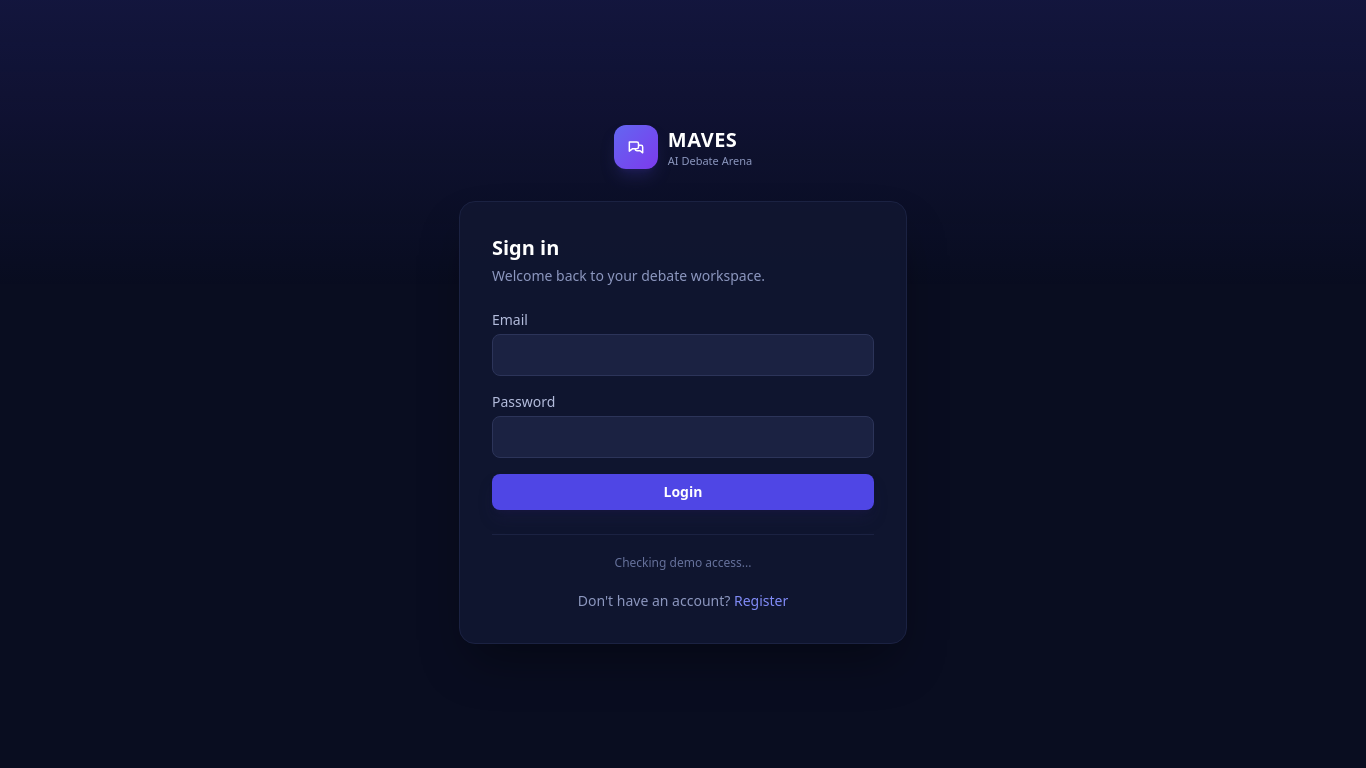
Test: authentication API integration › shows invalid credentials and permits another login attempt
The width and height of the screenshot is (1366, 768).
In the field labelled "Email": (683, 354) [492,334,874,376], type "qa@example.com"
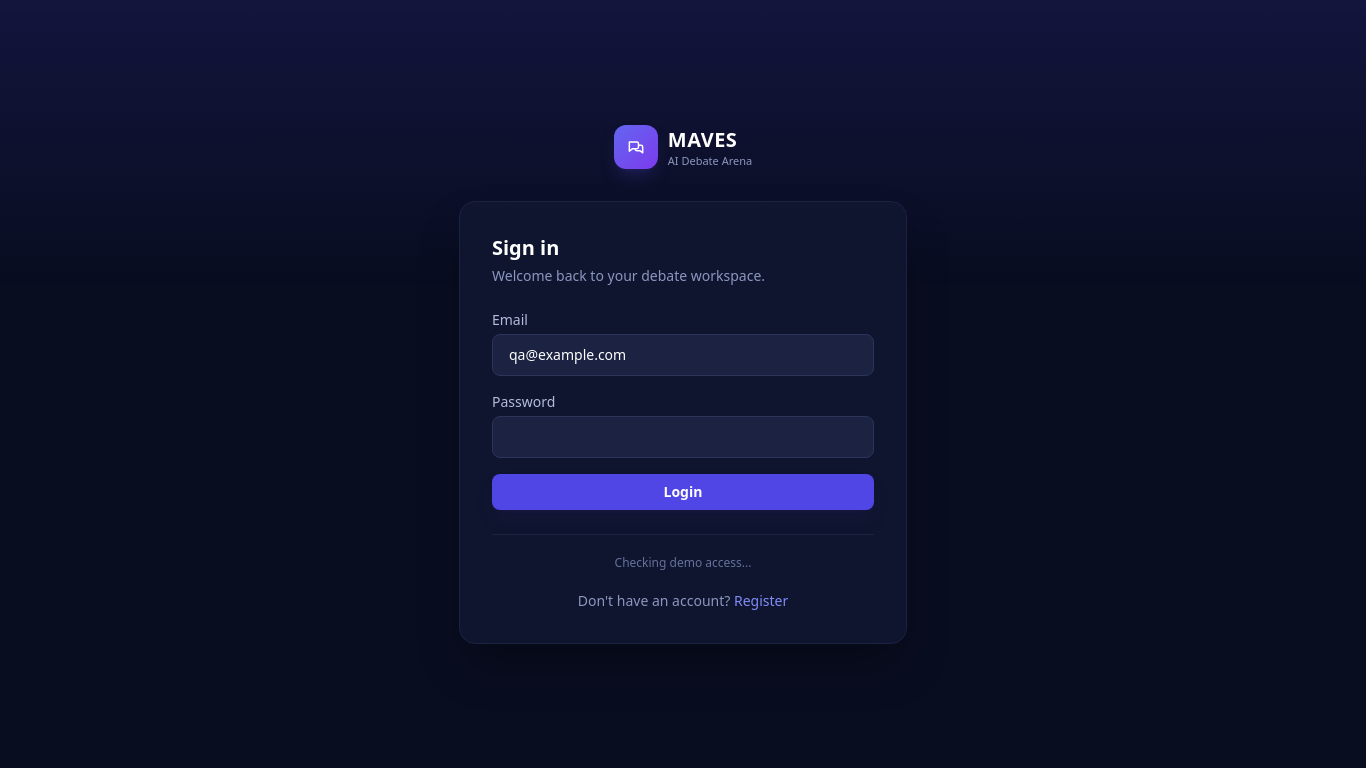
In the password field labelled "Password": (683, 436) [492,416,874,458], type "wrong-password"
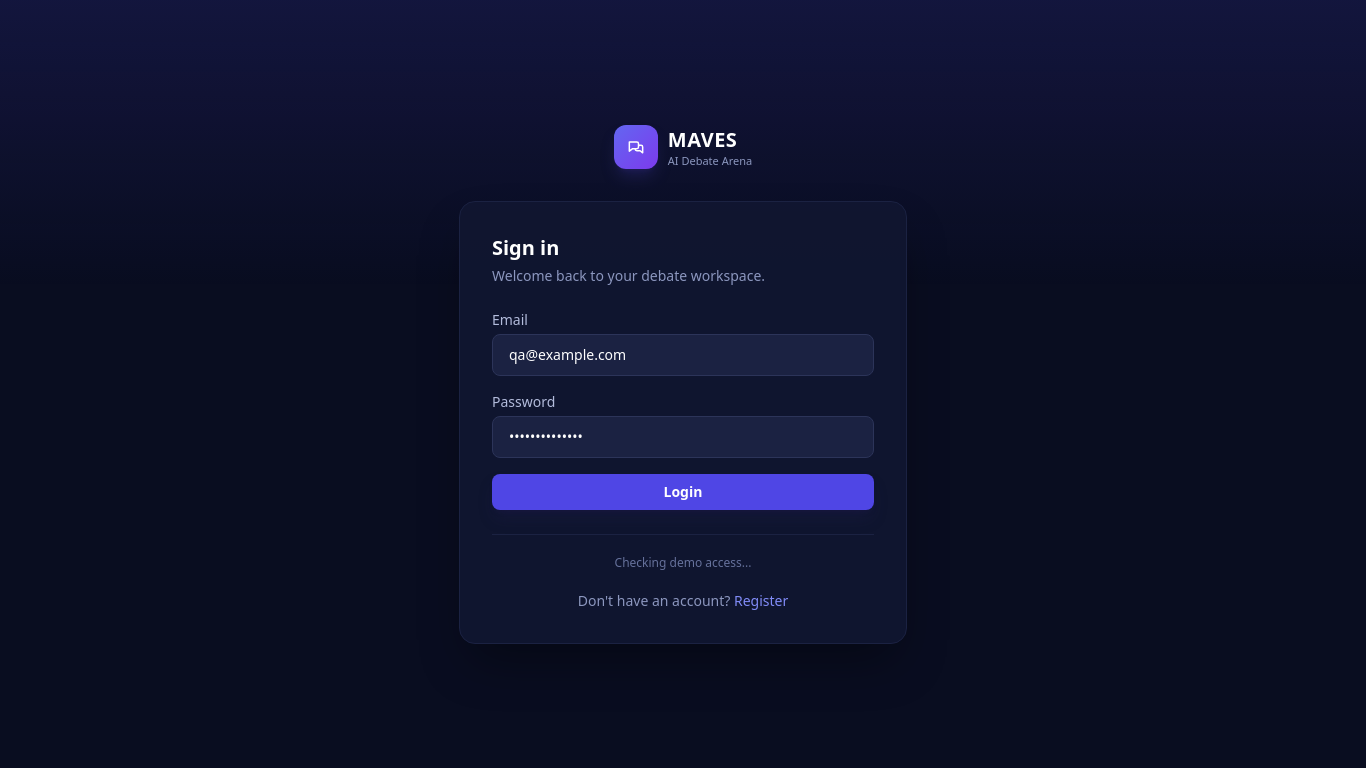
Click the button "Login": click(683, 492) [492,474,874,510]
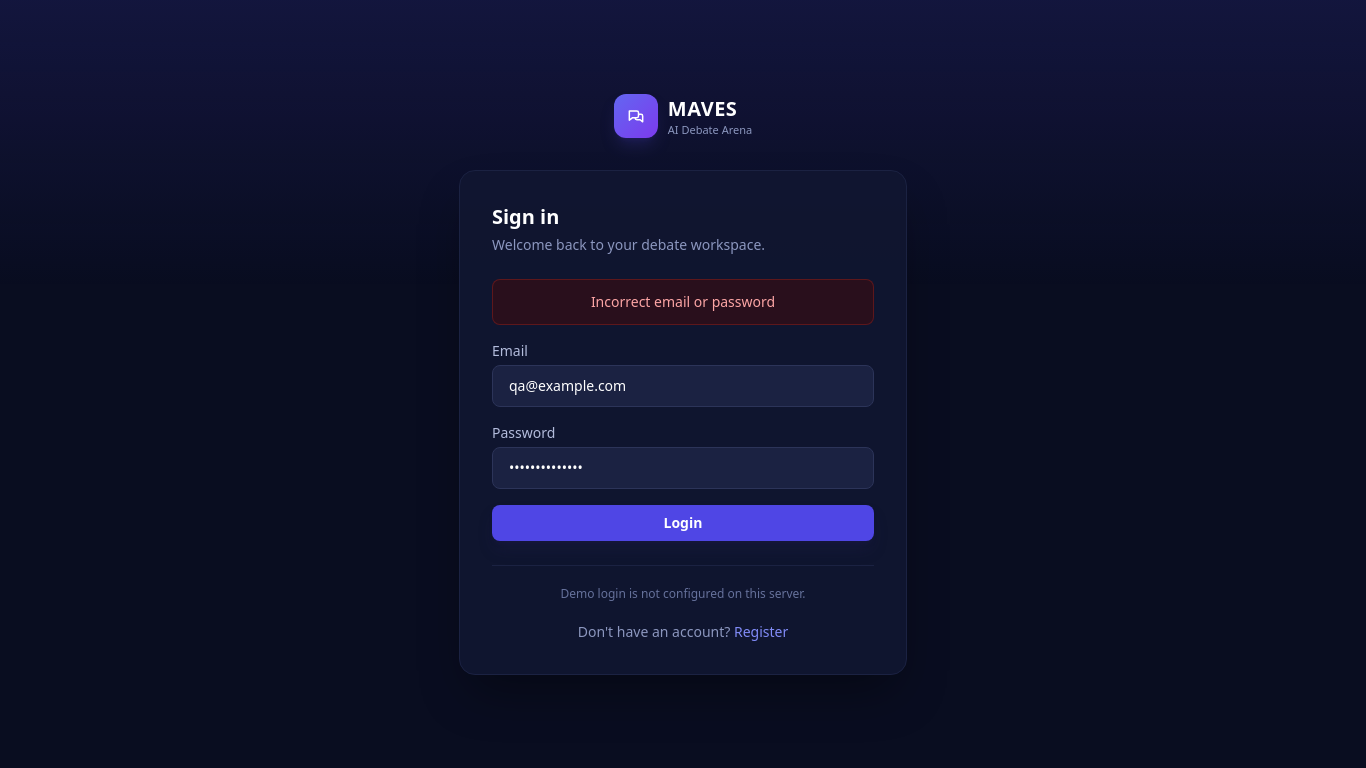
expect the button "Login" is enabled: met, box [492,504,874,540]
expect the message reads "Incorrect email or password": met, box [591,292,775,310]
